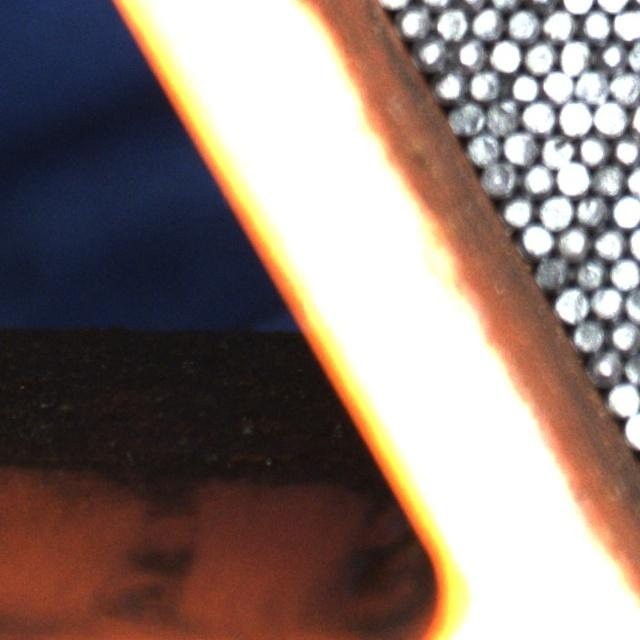tool: (502, 129, 538, 165), (553, 286, 588, 322), (521, 98, 556, 134), (592, 99, 628, 134), (538, 192, 573, 228), (481, 160, 517, 195), (574, 68, 609, 103), (574, 192, 609, 227), (557, 38, 592, 73), (520, 160, 555, 195), (591, 160, 626, 195), (449, 99, 484, 134), (484, 100, 519, 135), (557, 98, 591, 134), (572, 255, 608, 289), (589, 346, 623, 382), (555, 160, 589, 195), (468, 67, 503, 101), (592, 225, 627, 259), (556, 224, 591, 258), (470, 6, 505, 40), (488, 38, 522, 73), (519, 220, 554, 254), (434, 6, 469, 40), (590, 284, 624, 319), (465, 130, 500, 164), (534, 253, 569, 287), (542, 7, 576, 41), (506, 8, 540, 42), (572, 317, 606, 351), (418, 36, 452, 70), (540, 68, 574, 102), (454, 35, 488, 69), (595, 37, 629, 71), (606, 380, 640, 414), (540, 134, 574, 168), (507, 69, 541, 103), (433, 67, 467, 101), (576, 131, 610, 165), (524, 40, 557, 74), (502, 193, 535, 227), (579, 7, 612, 41), (399, 4, 432, 38), (608, 317, 640, 352), (608, 256, 640, 290), (609, 69, 640, 104), (610, 192, 640, 228), (610, 132, 640, 166), (613, 7, 640, 41), (624, 410, 640, 446), (624, 350, 640, 385)
